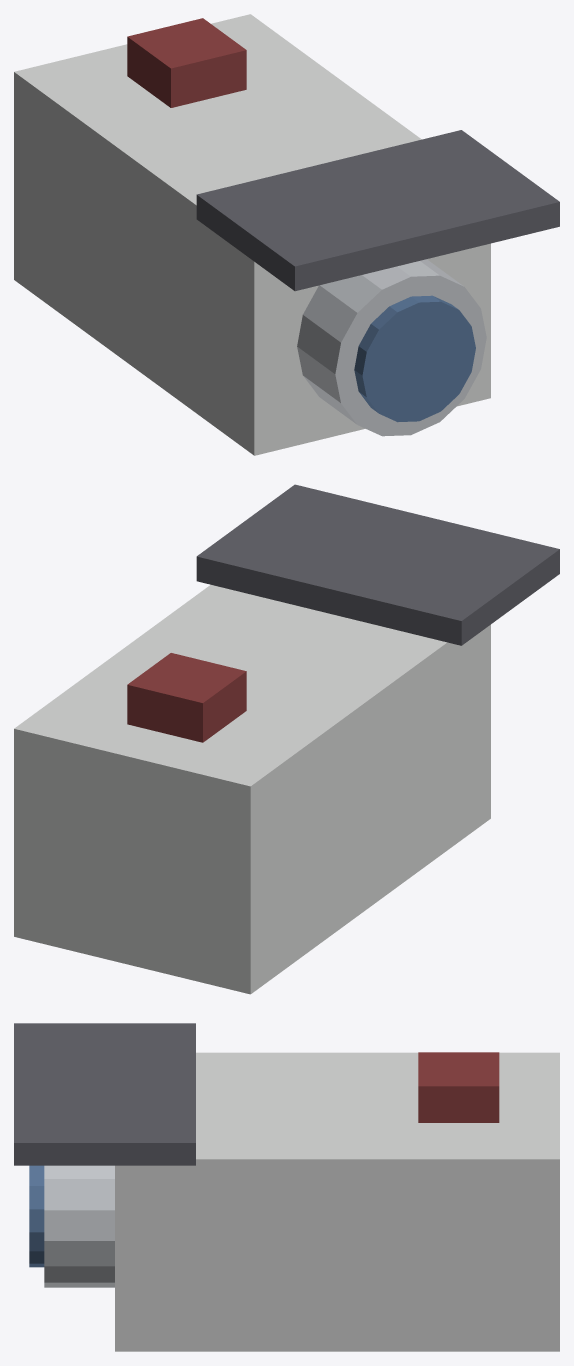
The model's file is camera_head.gltf.
3 renders of one model, top to bottom at view 1: azimuth 30°, elevation 25°; view 2: azimuth 150°, elevation 25°; view 3: azimuth 270°, elevation 25°, orthographic. The views are drawn at different scales.
Visible parts, largest first — view 1: camera_head; view 2: camera_head; view 3: camera_head.
Part boxes in pixels (x1,y1,x2,y2): camera_head: (14, 14, 559, 455); camera_head: (14, 484, 559, 994); camera_head: (14, 1023, 559, 1351).
Size of the model in its own units: 0.28 by 0.25 by 0.54.
